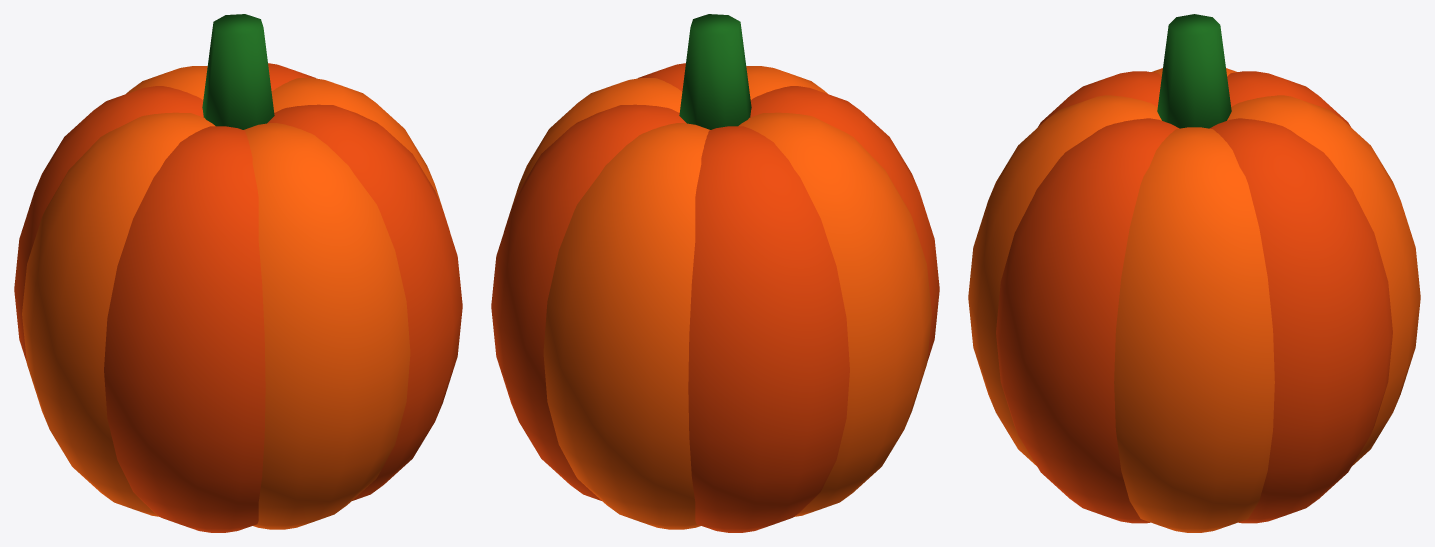
Rendered from pumpkin.fbx.
3 renders of one model, left to right at view 1: azimuth 30°, elevation 25°; view 2: azimuth 150°, elevation 25°; view 3: azimuth 270°, elevation 25°, orthographic.
Parts seen in each view (by area): view 1: pumpkin; view 2: pumpkin; view 3: pumpkin.
Part boxes in pixels (x1=…): pumpkin: x1=14, y1=14, x2=462, y2=532; pumpkin: x1=491, y1=14, x2=939, y2=532; pumpkin: x1=968, y1=14, x2=1420, y2=532.
Size of the model in its own units: 87.17 by 100 by 88.05.
1 material, 1 textured.
